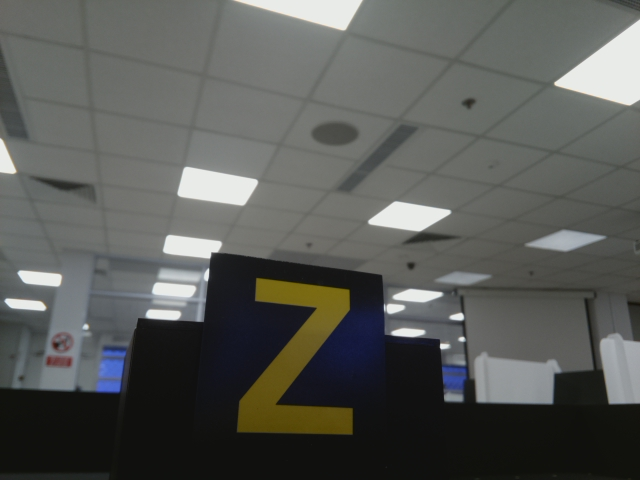z: (239, 267, 361, 437)
